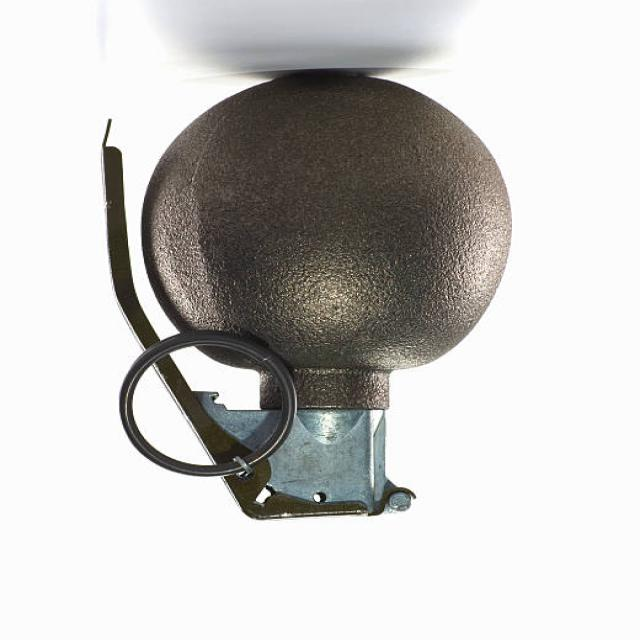grenade: (85, 67, 520, 527)
